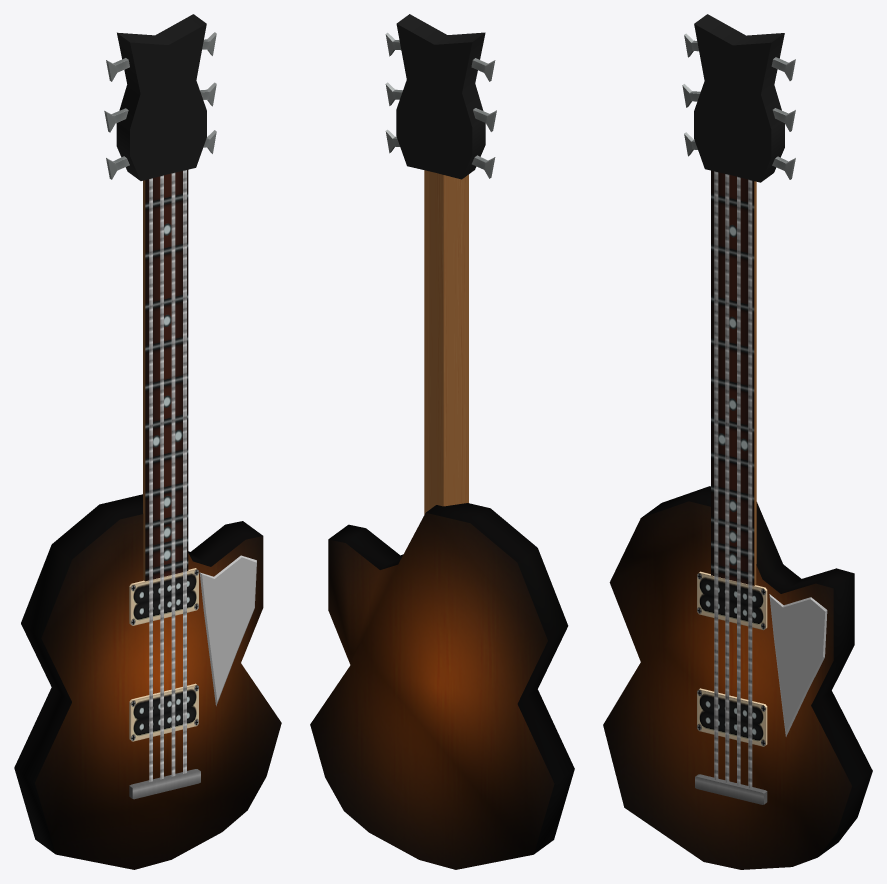
File: Guitar_A.FBX
3 renders of one model, left to right at view 1: azimuth 30°, elevation 25°; view 2: azimuth 150°, elevation 25°; view 3: azimuth 330°, elevation 25°, orthographic.
Visible parts, largest first — view 1: Guitar; view 2: Guitar; view 3: Guitar.
Part boxes in pixels (x1,y1,x2,y2): Guitar: (14,14,281,869); Guitar: (310,14,574,869); Guitar: (603,14,872,869).
Bounding box in the file's own units: 64.57 × 208 × 10.83.
